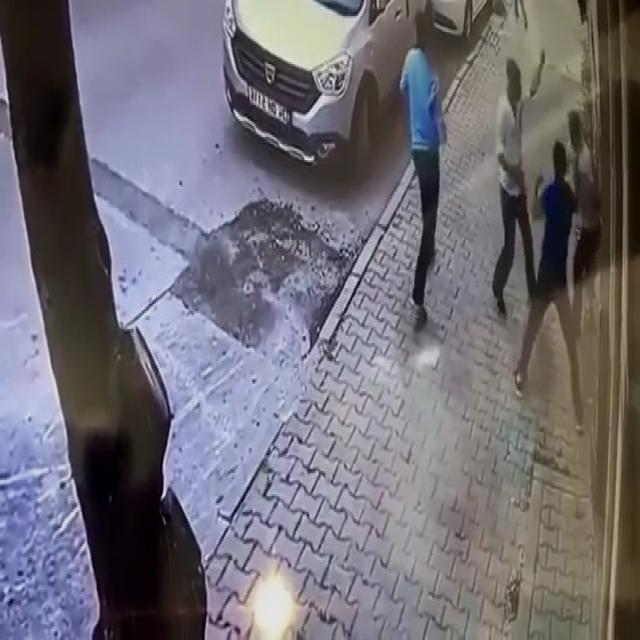fight: (478, 34, 588, 394)
